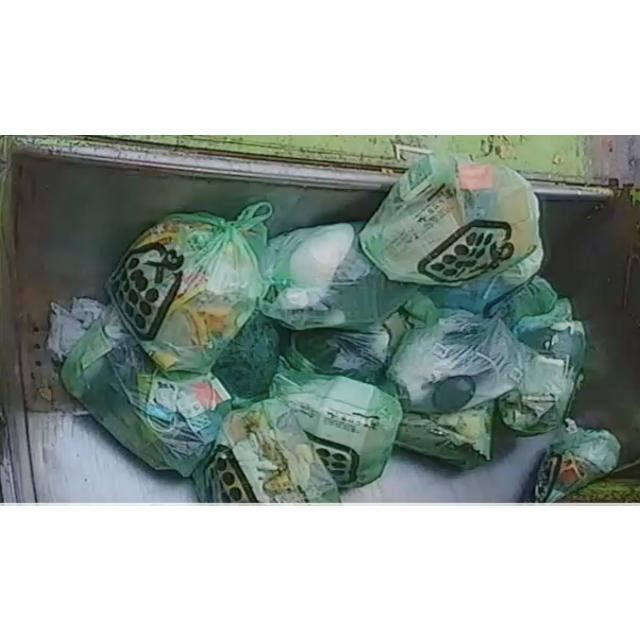general_trashbag: (60, 305, 230, 476), (106, 200, 272, 373), (360, 152, 539, 286), (260, 222, 416, 329), (270, 369, 402, 486), (194, 398, 340, 502), (388, 312, 528, 412), (499, 298, 585, 434), (286, 312, 409, 383), (535, 418, 620, 502)
